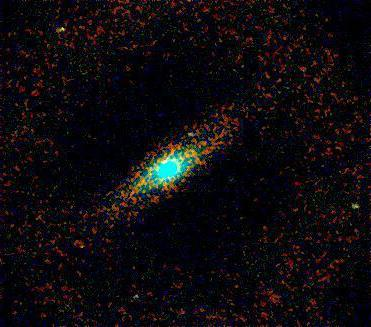star: (68, 235, 98, 265)
